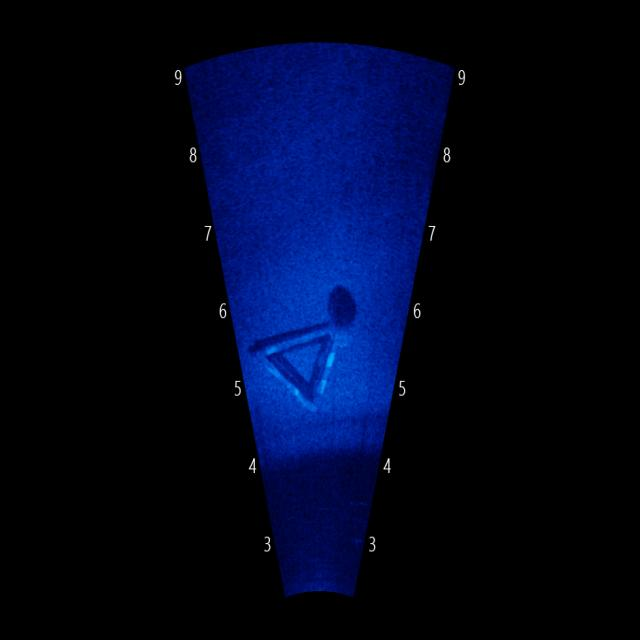triangle: (249, 313, 354, 422)
